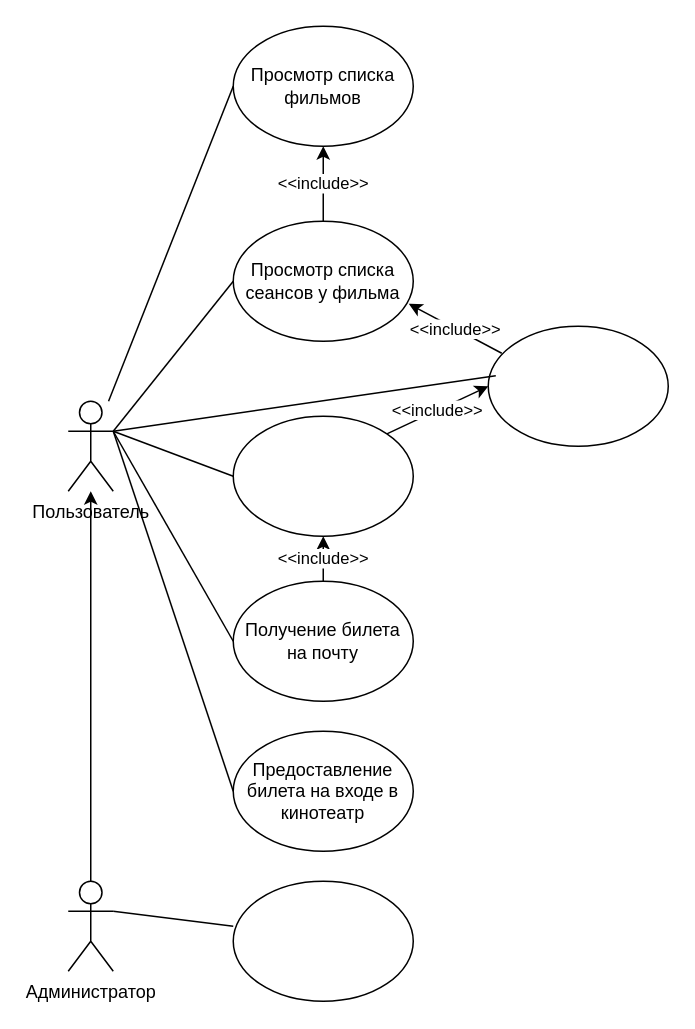
Image size: 695x1029. Some labels were removed from this diagram. Each missing label, with the centre of its shape:
"Покупка билета на сеанс" goes at pixel 322 475.
"Просмотр схемы зала у фильма" goes at pixel 577 385.
"Редактирование списка сеансов и фильмов" goes at pixel 322 940.
